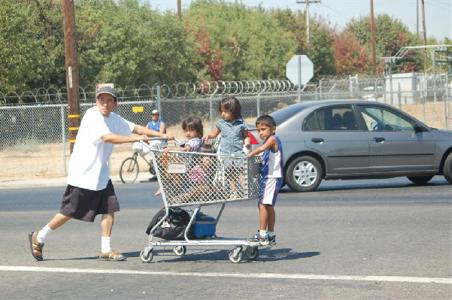person: (30, 86, 177, 262)
